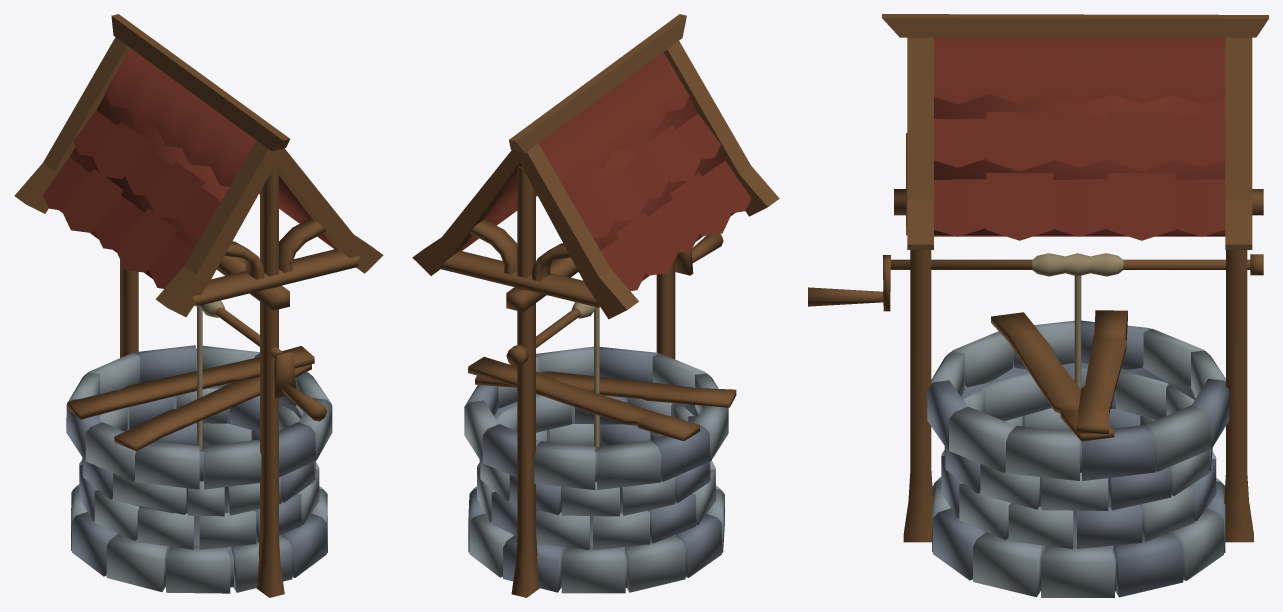
File: well.glb
3 views of the same model, side by side, from view 1: azimuth 30°, elevation 25°; view 2: azimuth 150°, elevation 25°; view 3: azimuth 270°, elevation 25° (orthographic). The views are drawn at different scales.
Parts seen in each view (by area): view 1: Well; view 2: Well; view 3: Well.
Boxes of the visible parts, x1,y1,x2,y2 form: Well: (14,14,383,597); Well: (412,14,779,597); Well: (808,14,1268,597).
Bounding box in the file's own units: 1.3 × 2.5 × 2.
